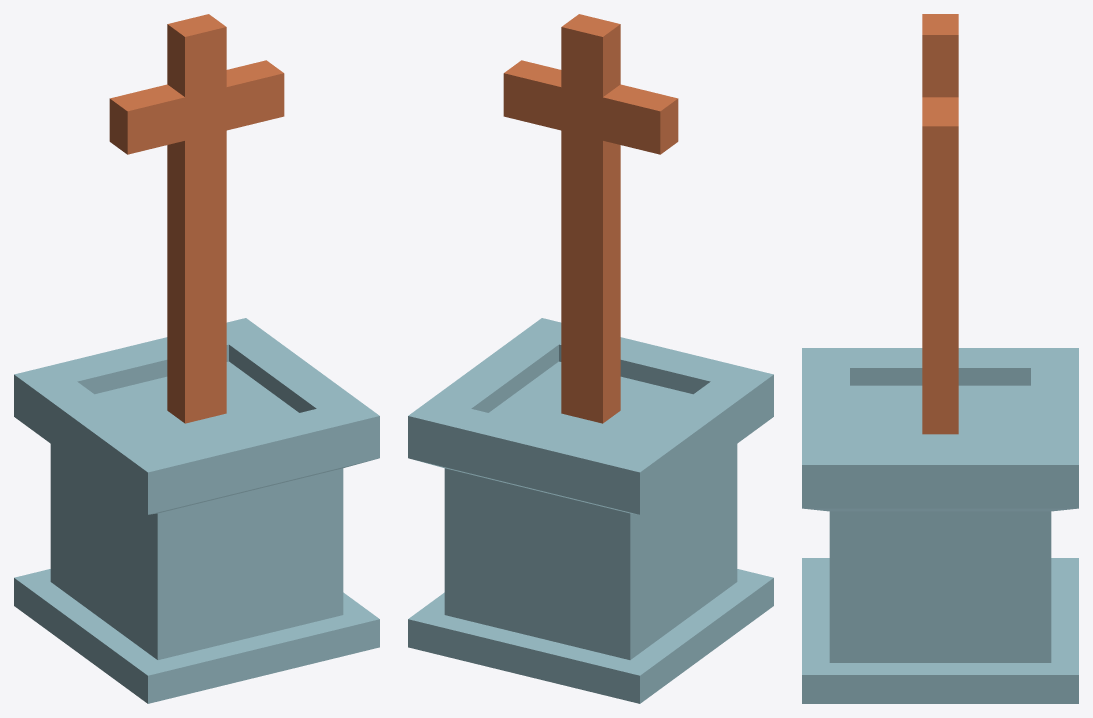
Rendered from crossWood.dae.
The picture shows the model from 3 angles, left to right: view 1: azimuth 30°, elevation 25°; view 2: azimuth 150°, elevation 25°; view 3: azimuth 270°, elevation 25°; orthographic projection. The views are drawn at different scales.
Parts seen in each view (by area): view 1: crossWood; view 2: crossWood; view 3: crossWood.
Boxes of the visible parts, x1,y1,x2,y2 form: crossWood: (14,14,379,703); crossWood: (408,14,773,703); crossWood: (802,14,1078,703).
Size of the model in its own units: 0.43 by 1.06 by 0.43.
